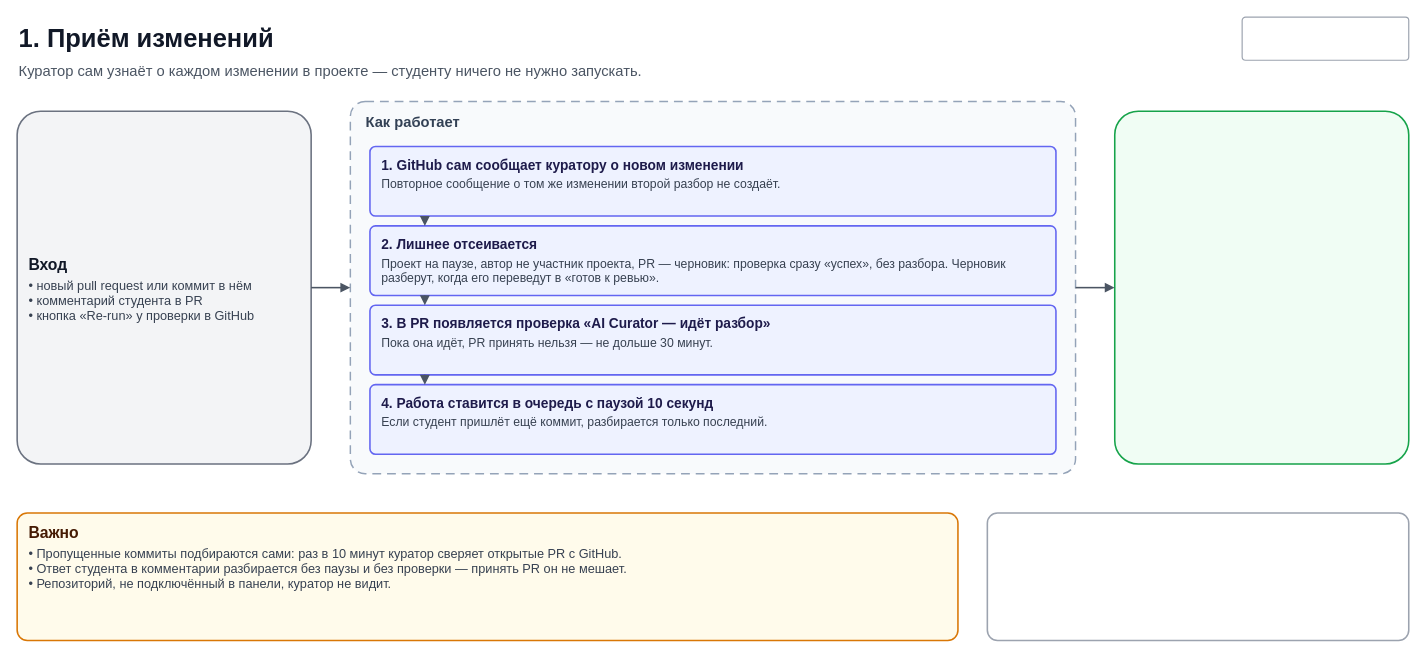
Image size: 1427x659. Some labels were removed from this diagram. Each missing label, with the centre of its shape:
Выход • задача в очереди на разбор • проверка «идёт разбор» в PR: point (1261, 287)
Параметры • пауза перед разбором — 10 с • сверка с GitHub — раз в 10 мин: point (1197, 576)
← Общая схема: point (1325, 38)
